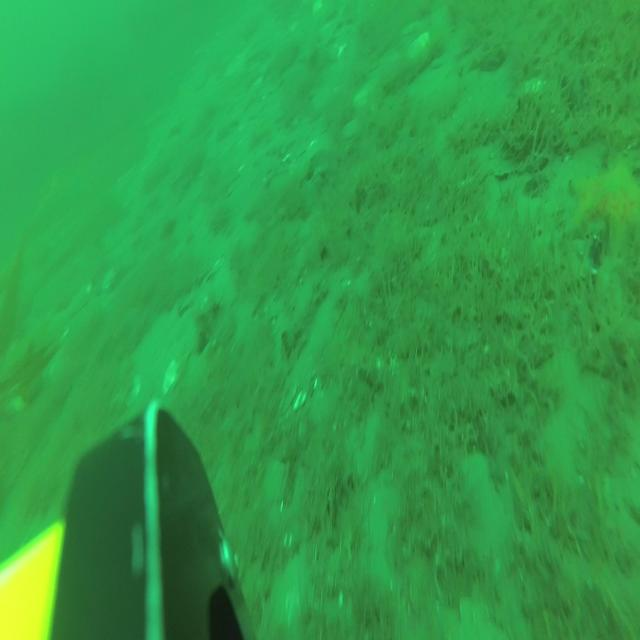scallop: (461, 454, 511, 555), (66, 281, 91, 316), (407, 29, 431, 57), (162, 354, 179, 391)
starfish: (570, 157, 640, 250)
